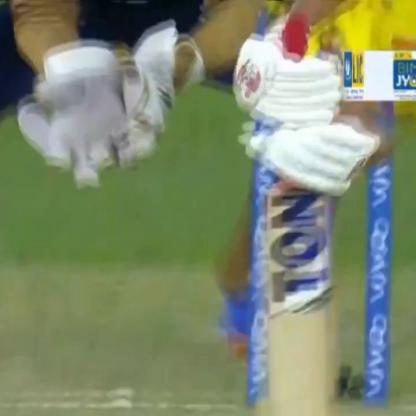bat: (223, 24, 348, 410)
